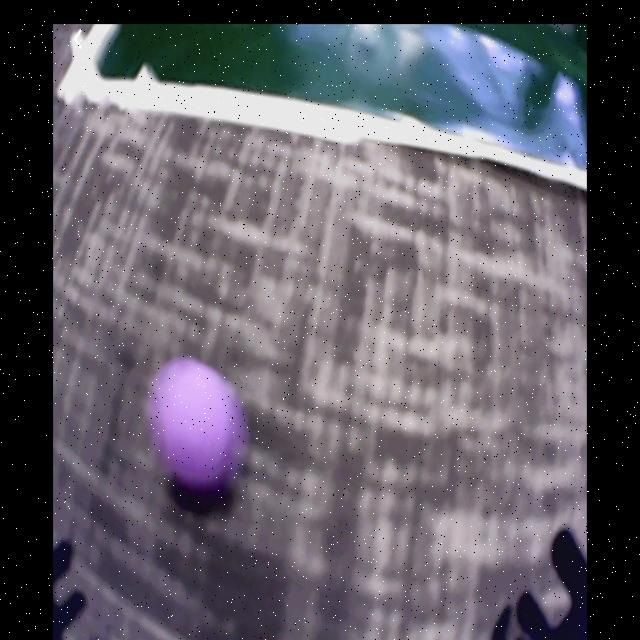ball: (158, 361, 242, 487)
